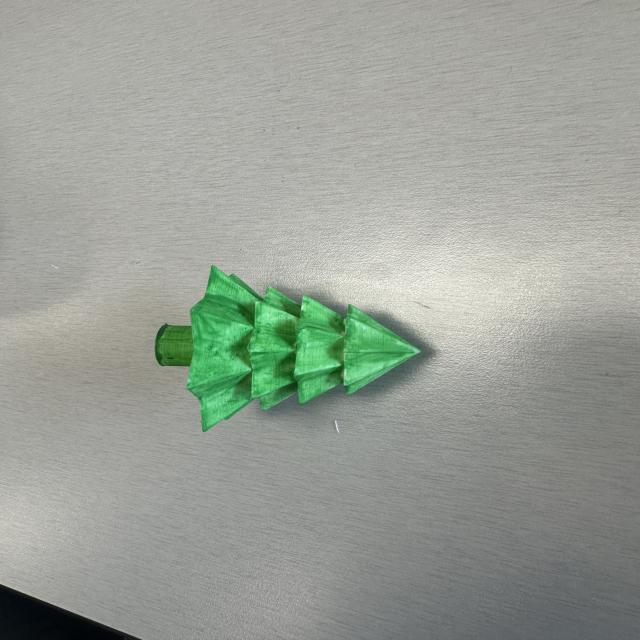tree: (155, 264, 427, 432)
